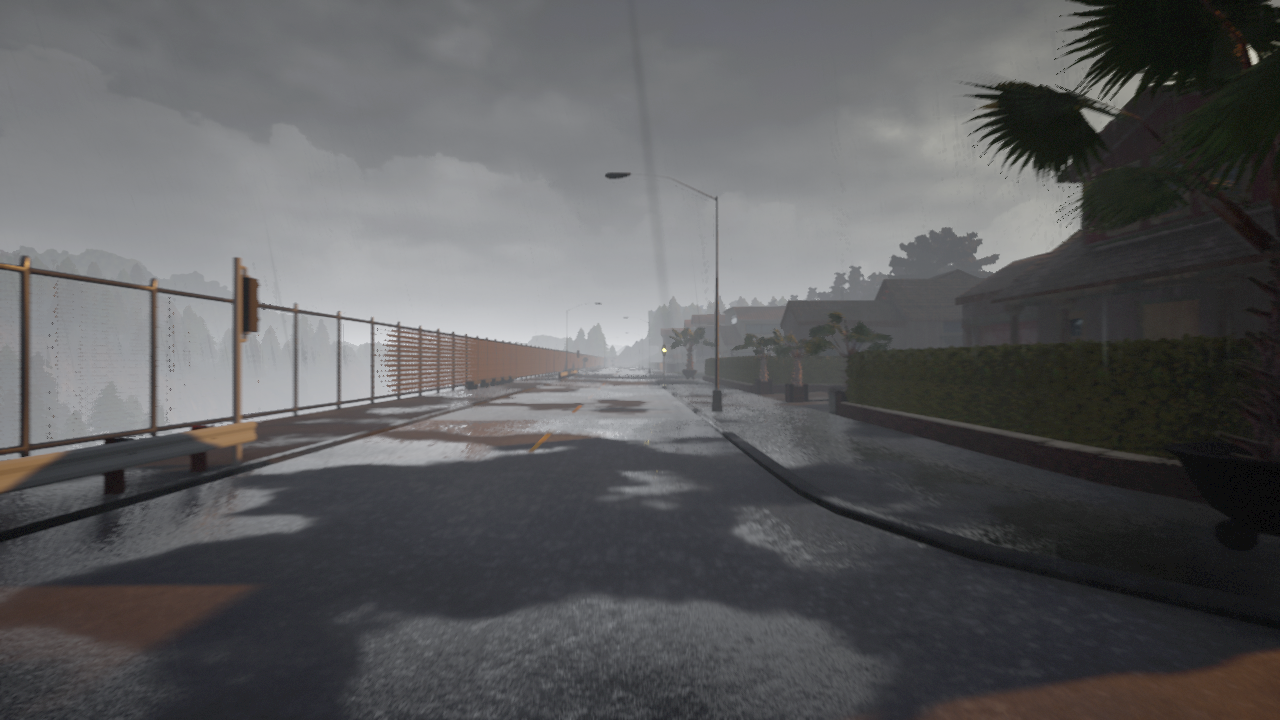yellow: (661, 344, 668, 357)
